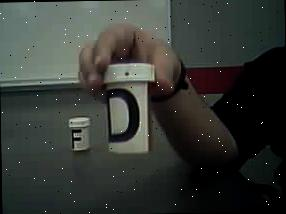Bottle D: (98, 57, 161, 159)
Bottle F: (66, 115, 94, 152)
